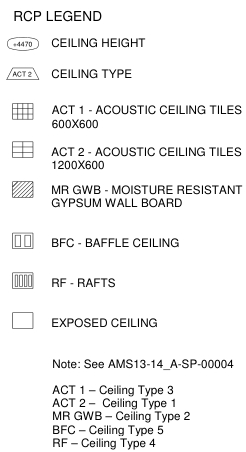hatch: (5, 65, 40, 84), (6, 35, 40, 54), (9, 178, 37, 200), (10, 100, 37, 122), (10, 139, 36, 161), (10, 230, 35, 252), (10, 271, 36, 291), (9, 311, 35, 331)
label: (50, 182, 242, 213), (47, 143, 244, 173), (49, 102, 244, 130), (49, 312, 162, 331), (48, 234, 182, 249), (48, 64, 135, 84), (48, 35, 149, 50), (49, 274, 116, 289)
